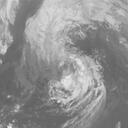cyclone: (37, 41, 106, 112)
